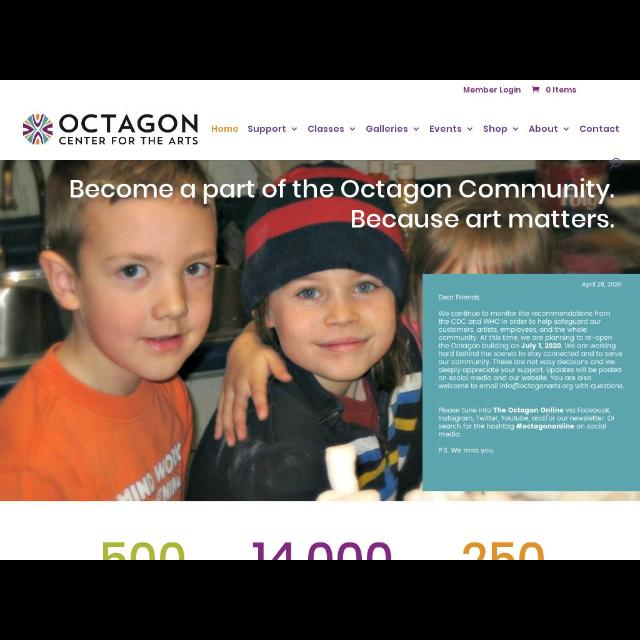icon: (608, 156, 622, 170), (528, 85, 544, 94), (465, 122, 475, 132), (411, 125, 422, 134), (346, 125, 356, 133), (563, 127, 571, 135), (290, 126, 300, 132), (509, 128, 518, 132)
image: (1, 164, 639, 498), (95, 530, 547, 558), (18, 114, 202, 148)
multitab: (210, 117, 624, 139)
spinner: (248, 121, 302, 135), (306, 123, 358, 135), (528, 124, 570, 136), (366, 126, 420, 134), (428, 124, 476, 132), (482, 124, 520, 134)
text: (70, 176, 616, 204), (439, 309, 625, 391), (348, 209, 614, 235), (438, 408, 614, 438), (463, 85, 521, 95), (245, 124, 289, 136), (436, 448, 494, 456), (577, 125, 619, 134), (579, 281, 625, 289), (210, 122, 240, 134), (436, 294, 480, 302), (306, 125, 344, 134), (526, 123, 558, 133), (546, 85, 578, 94), (430, 125, 462, 132), (480, 126, 508, 134), (367, 128, 409, 132)
